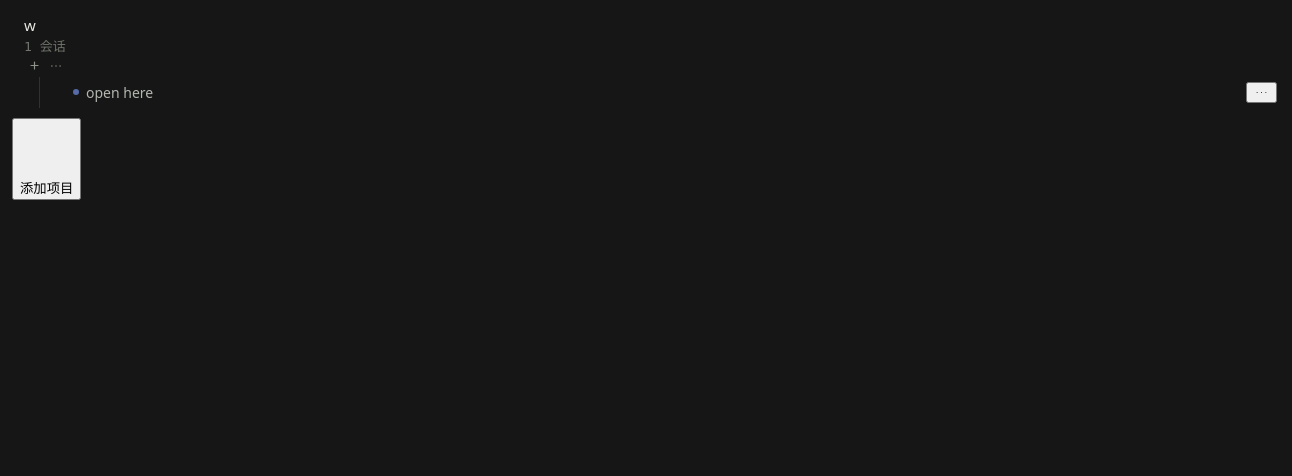
will not close a conversation mid-turn
Click the button named "会话操作：": (1262, 92) x1=1246 y1=82 x2=1277 y2=102
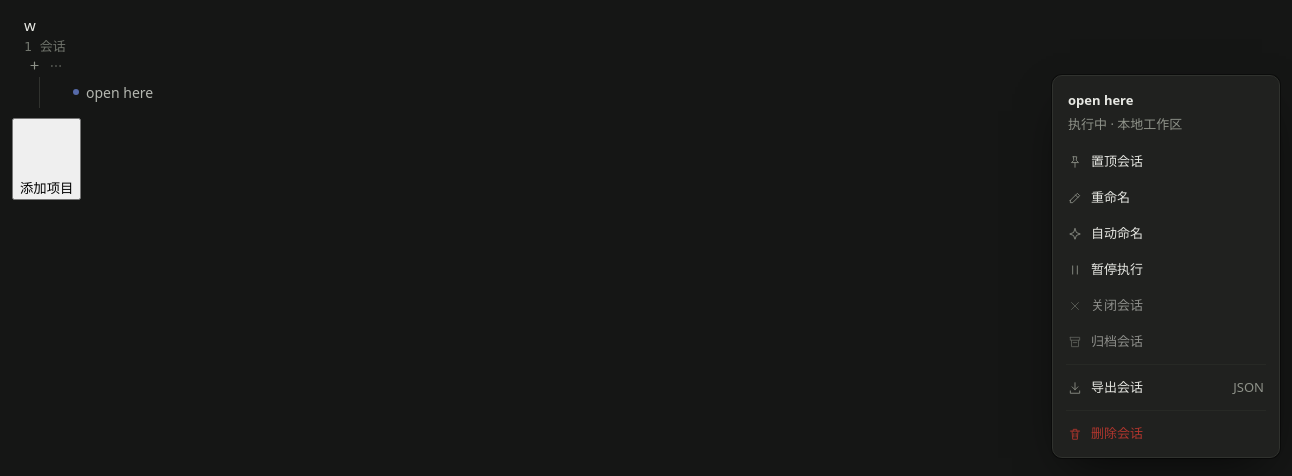
Expected: the menu item "关闭会话" is disabled, x1=1059 y1=288 x2=1273 y2=323
